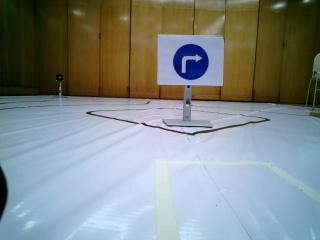right: (160, 38, 223, 87)
